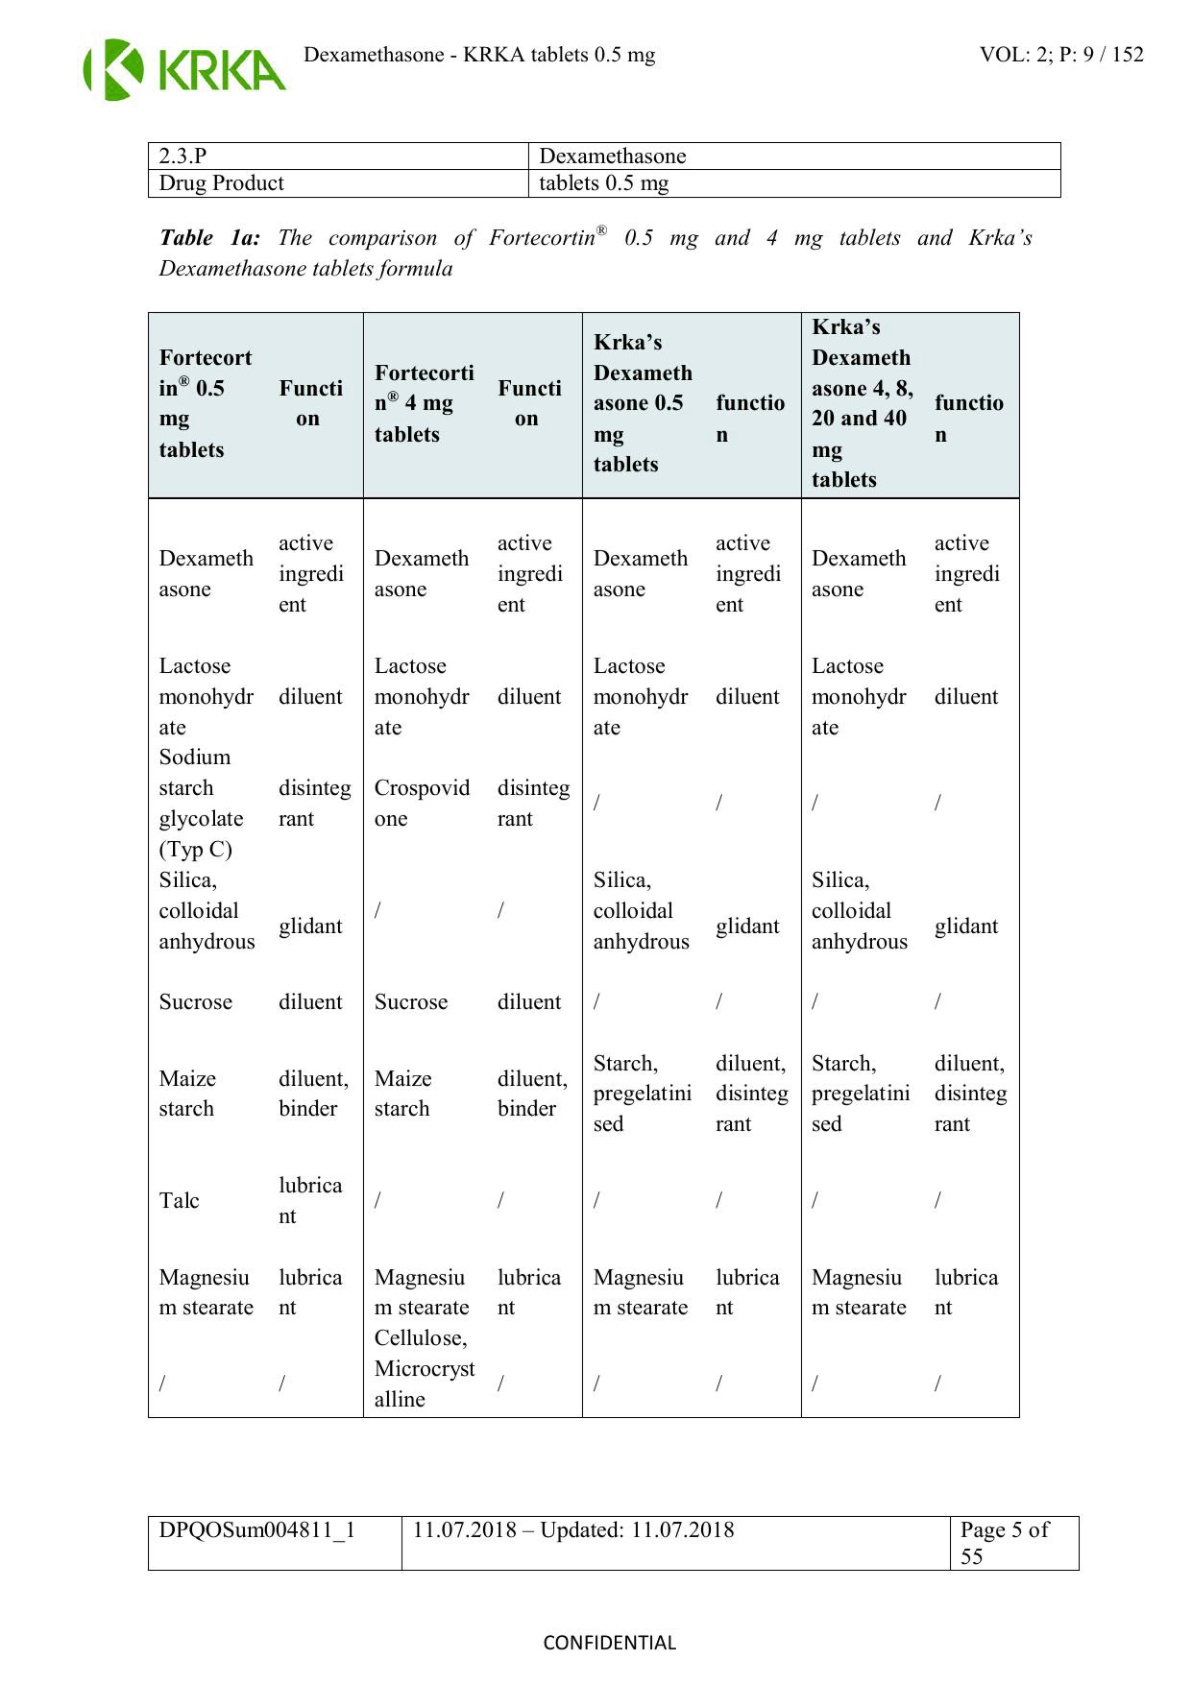full_lined: (146, 141, 1062, 199), (147, 1515, 1080, 1572)
partial_lined: (146, 309, 1020, 1418)
